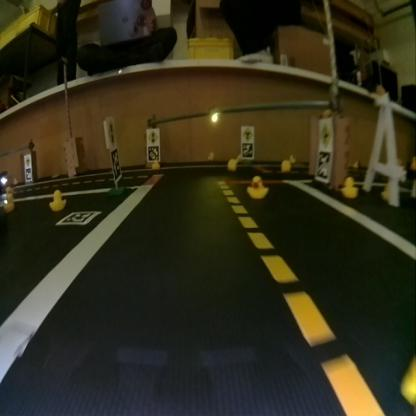Duckie: (247, 175, 268, 198), (342, 176, 357, 198), (49, 190, 65, 210), (3, 196, 14, 211), (227, 158, 235, 170), (282, 159, 290, 170), (152, 160, 158, 168)
Intersection sign: (319, 121, 330, 149), (241, 127, 252, 141)
QR code: (55, 212, 99, 224), (315, 152, 330, 181), (110, 150, 121, 182), (241, 142, 252, 157), (148, 146, 158, 160)
Signal sign: (105, 118, 115, 145), (146, 130, 159, 143)
Traffic light: (209, 108, 218, 122)
